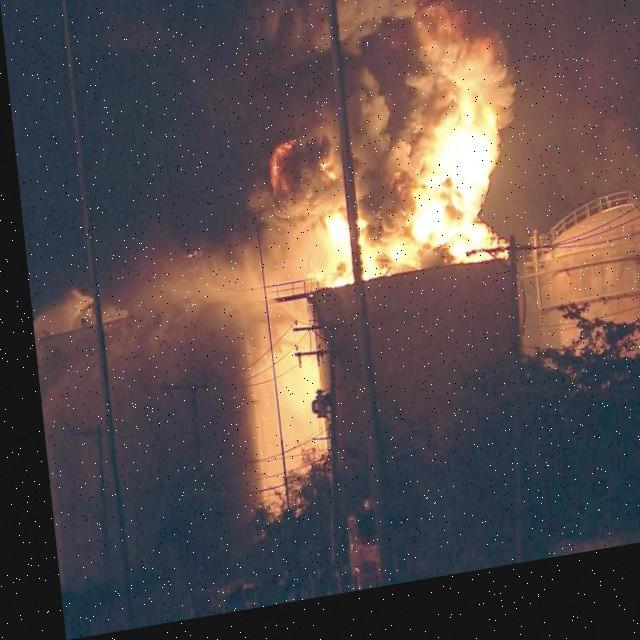Fire: (340, 114, 512, 290), (237, 315, 317, 520), (300, 216, 346, 296)
